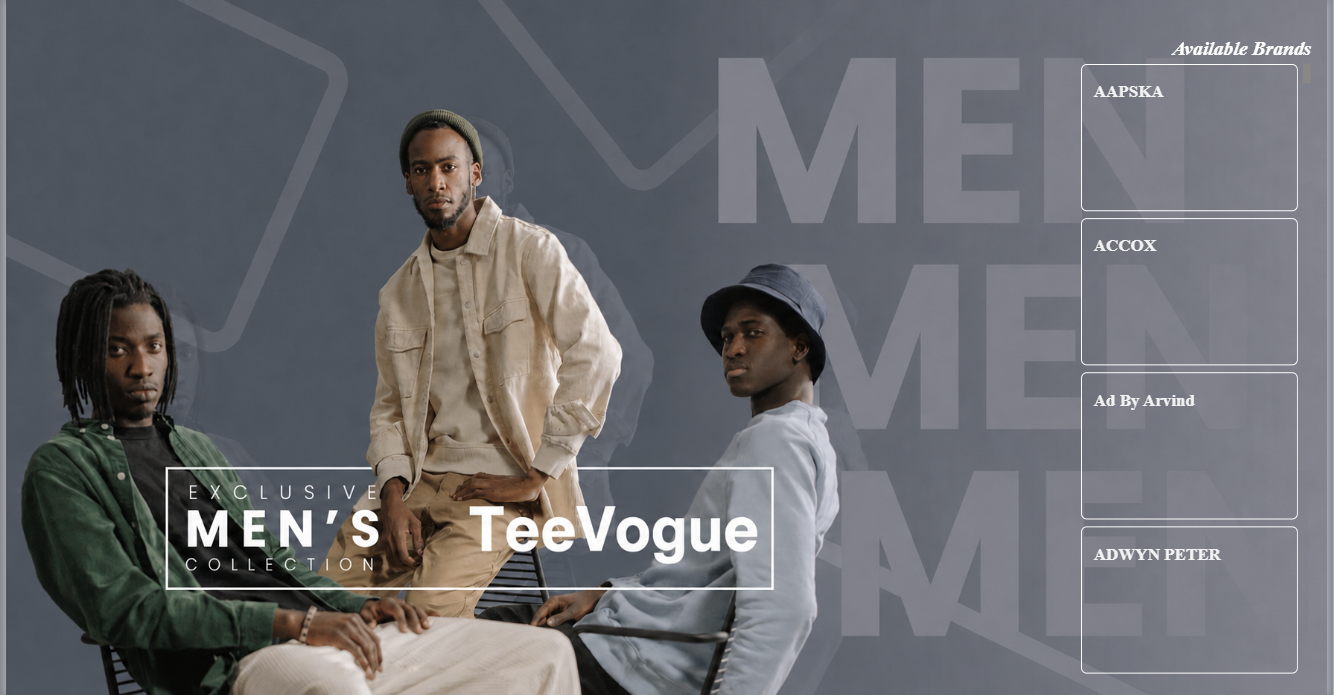

This screenshot's page, from the dashboard's own definition file:
{"tool":"powerbi","page":{"name":"Brands's","canvas":[1346,709],"ordinal":0},"visuals":[{"type":"cardVisual","title":"Available Brands","fields":{"Rows":["Tshirt.Brand"]},"box":[1089.8,37.6,244.6,657.1],"z":0}]}

Visuals, with their boxes in screenshot pixels (x1, y1, x2, y2), scaled from the page's 1346x709 canvas onto the 1335x695 screenshot:
"Available Brands" cardVisual: <bbox>1081, 37, 1323, 681</bbox>
